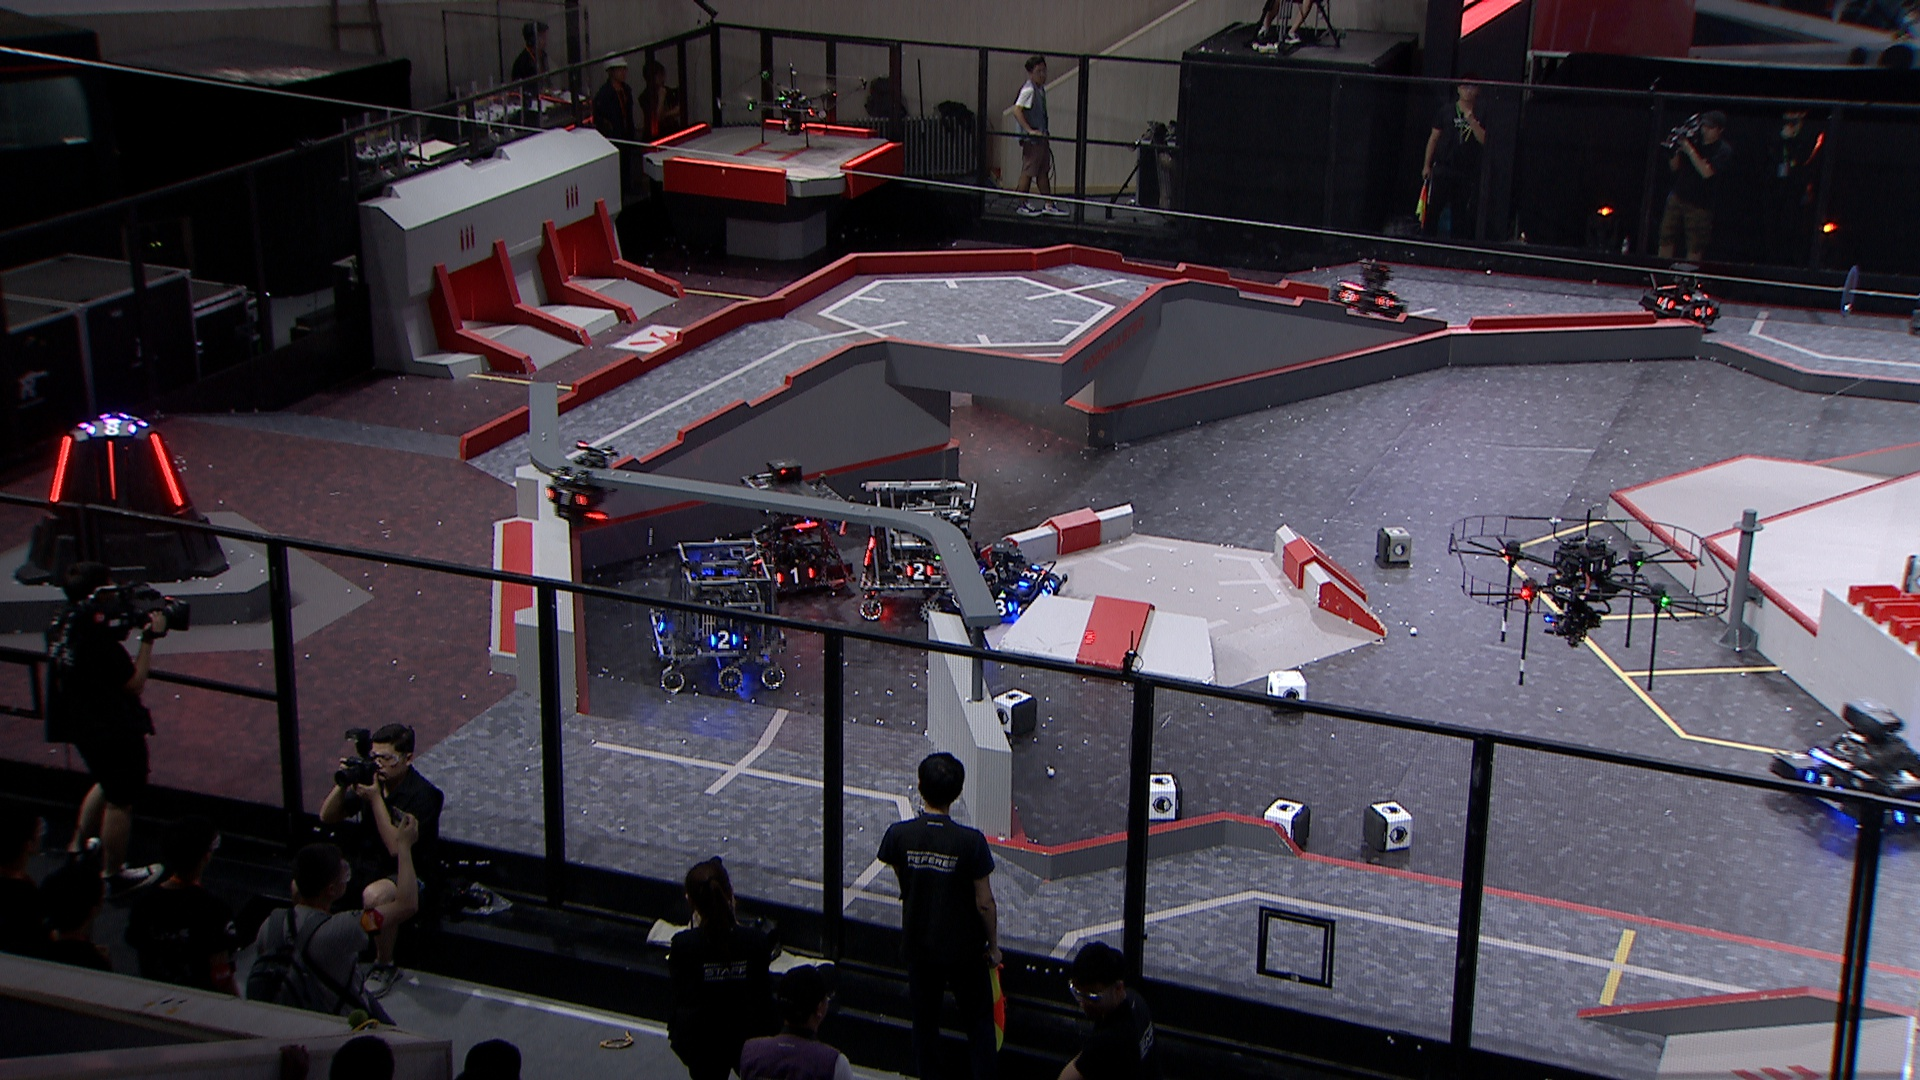armor: (146, 433, 186, 508), (47, 434, 71, 502), (1807, 766, 1845, 802), (547, 487, 583, 509), (105, 436, 117, 501), (774, 566, 816, 583), (1888, 802, 1920, 823), (903, 560, 935, 580), (1017, 564, 1040, 585), (708, 632, 738, 647), (651, 609, 669, 636), (1034, 579, 1058, 597), (745, 545, 764, 566), (994, 599, 1015, 617), (1371, 294, 1395, 309), (1685, 289, 1705, 305), (1695, 305, 1712, 320), (1658, 295, 1673, 310), (1338, 289, 1357, 301)
base: (11, 409, 229, 588)
car: (644, 538, 793, 698), (1771, 694, 1920, 847), (852, 471, 981, 622), (732, 452, 856, 600), (949, 534, 1062, 629), (1634, 258, 1721, 334), (1327, 258, 1411, 320)
ignore: (88, 415, 135, 434)
watcher: (535, 442, 626, 534)
